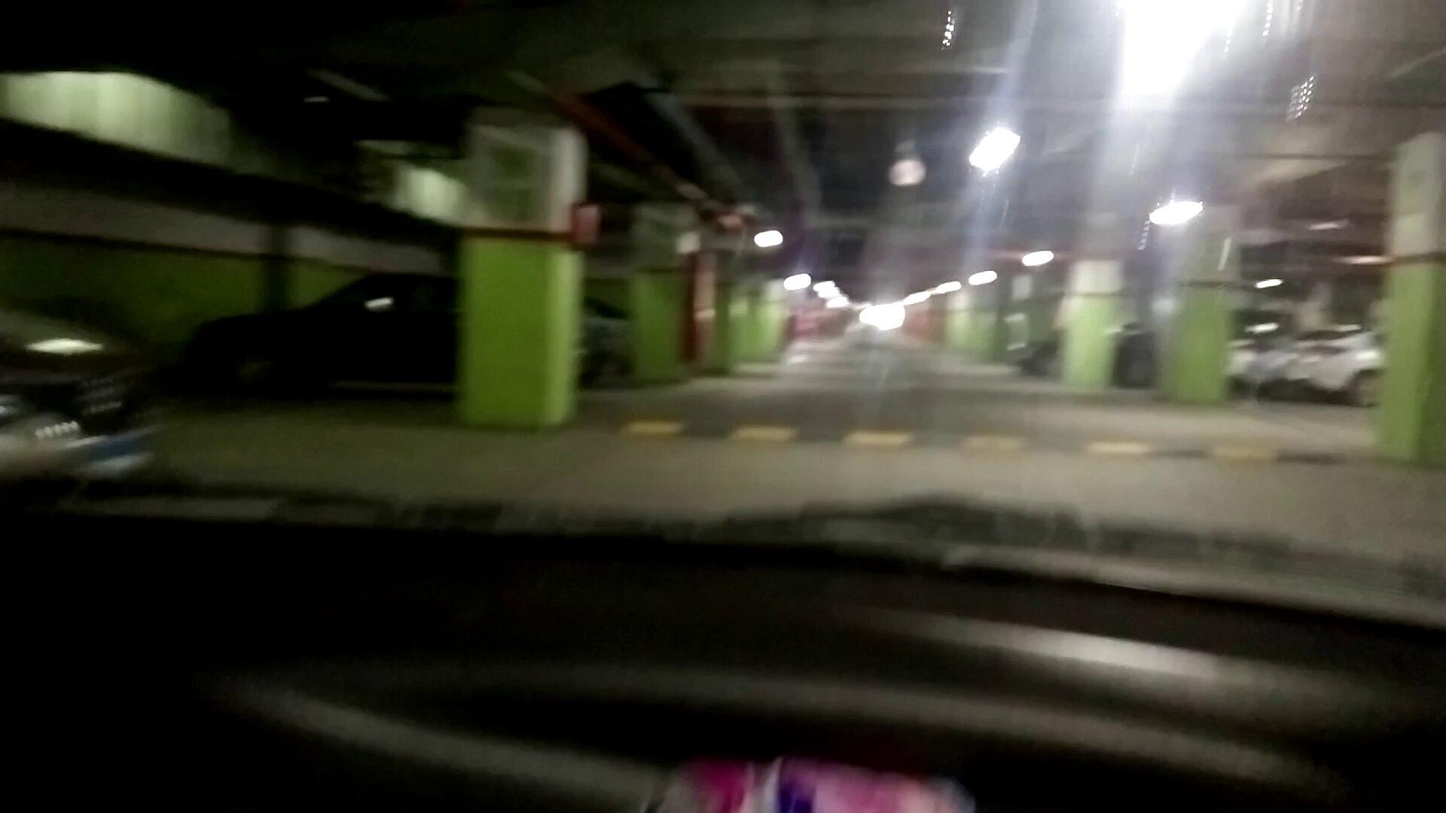Bump: (580, 408, 1405, 478)
